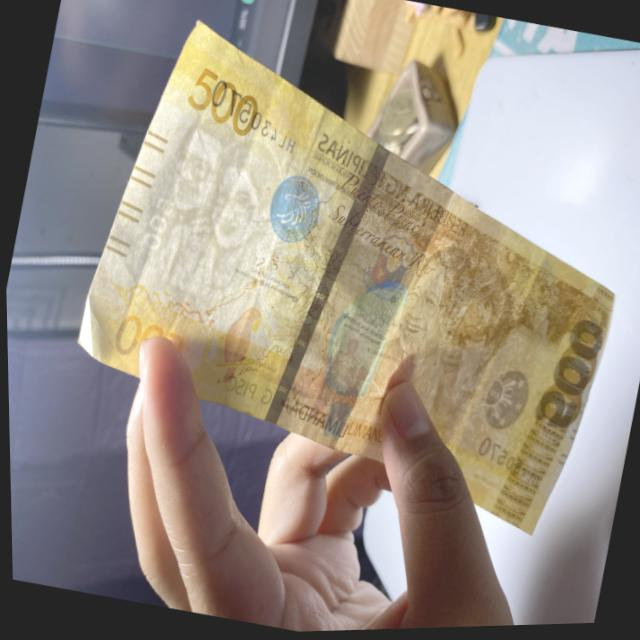500_big_parrot: (298, 257, 422, 453)
500_parrot_watermark: (209, 294, 271, 395)
value_watermark: (140, 193, 176, 254)
watermark: (151, 117, 284, 308)
